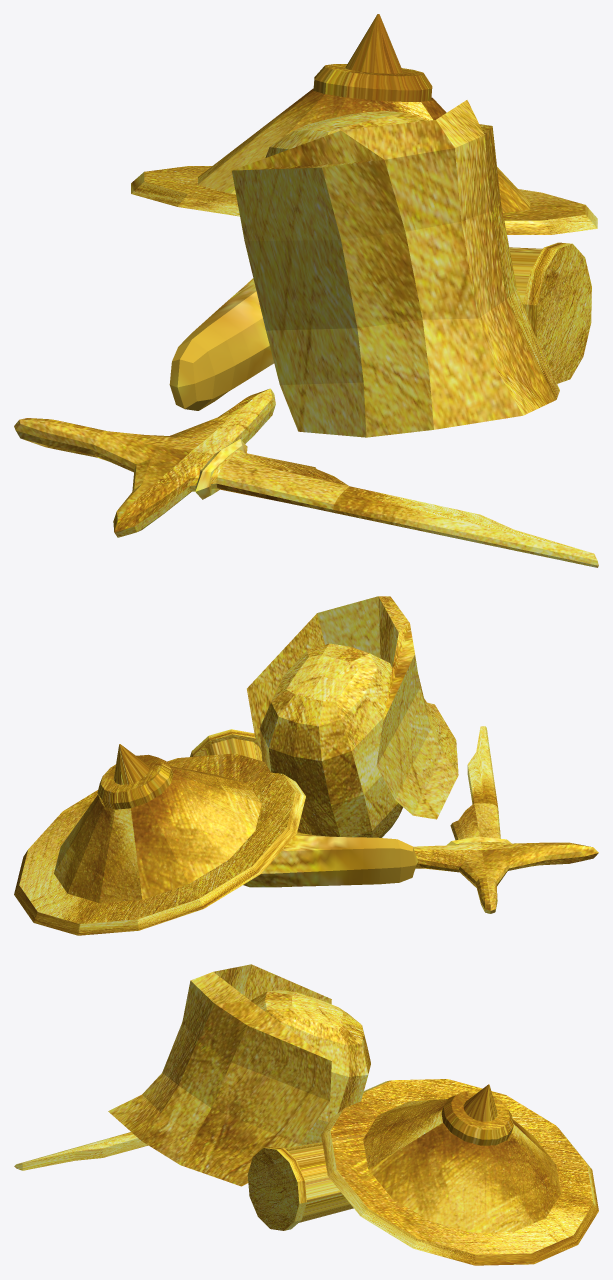
The model's file is StatueDebris.glb.
The picture shows the model from 3 angles, top to bottom: view 1: azimuth 30°, elevation 25°; view 2: azimuth 150°, elevation 25°; view 3: azimuth 270°, elevation 25°; orthographic projection. The views are drawn at different scales.
Visible parts, largest first — view 1: StatueDebris; view 2: StatueDebris; view 3: StatueDebris.
Boxes of the visible parts, x1,y1,x2,y2 form: StatueDebris: (14,14,598,567); StatueDebris: (14,596,598,935); StatueDebris: (14,964,598,1265).
Bounding box in the file's own units: 0.8955 × 0.4474 × 1.13.
Materials: 1 (1 with a texture image).
